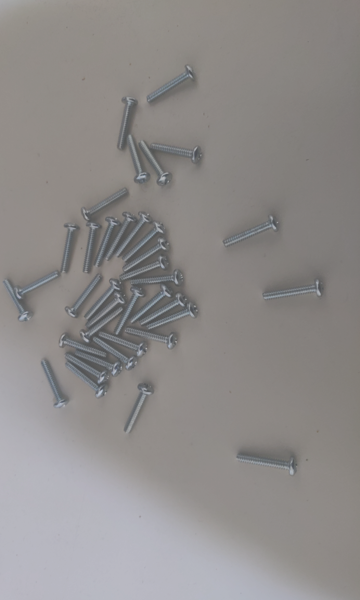longscrew: (148, 63, 195, 103), (151, 131, 207, 164), (261, 276, 323, 305), (221, 217, 283, 245), (82, 186, 130, 222), (121, 237, 172, 270), (130, 282, 172, 322), (139, 291, 188, 325), (146, 301, 202, 330), (116, 212, 150, 259), (142, 138, 174, 187), (62, 279, 101, 319), (125, 382, 153, 437), (68, 361, 108, 399), (114, 287, 145, 335), (91, 338, 139, 368), (37, 359, 66, 408), (235, 453, 302, 474), (123, 224, 161, 261), (82, 280, 120, 317), (92, 216, 119, 266), (114, 92, 137, 149), (122, 255, 174, 280), (80, 310, 122, 340), (85, 296, 127, 326), (107, 213, 133, 261), (99, 332, 150, 356), (65, 355, 109, 382), (3, 281, 29, 322), (57, 221, 77, 274), (79, 221, 99, 274), (59, 337, 107, 359), (18, 272, 58, 298), (130, 268, 190, 285), (124, 330, 180, 347), (77, 352, 121, 373), (130, 135, 147, 187)
